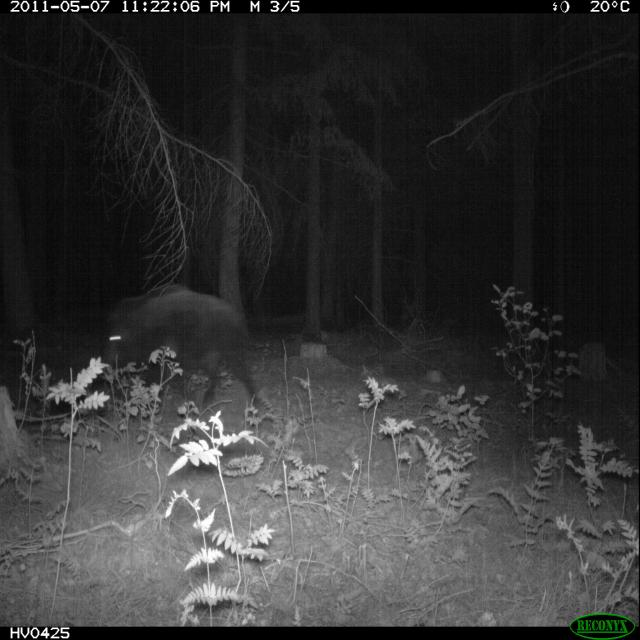boar: (9, 252, 303, 439)
